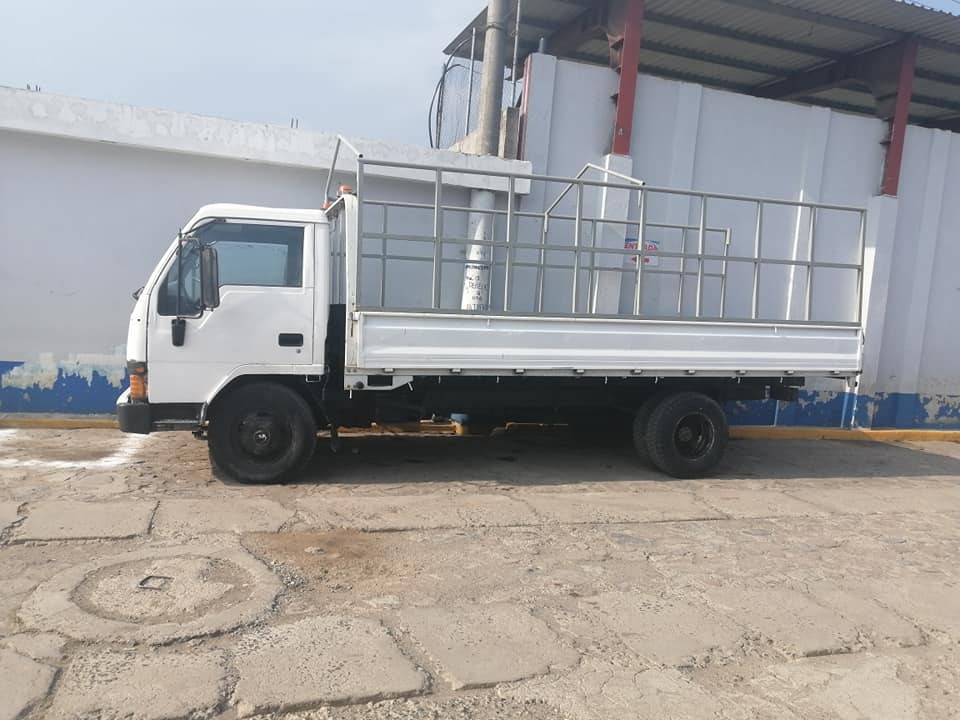camion: (110, 174, 871, 479)
